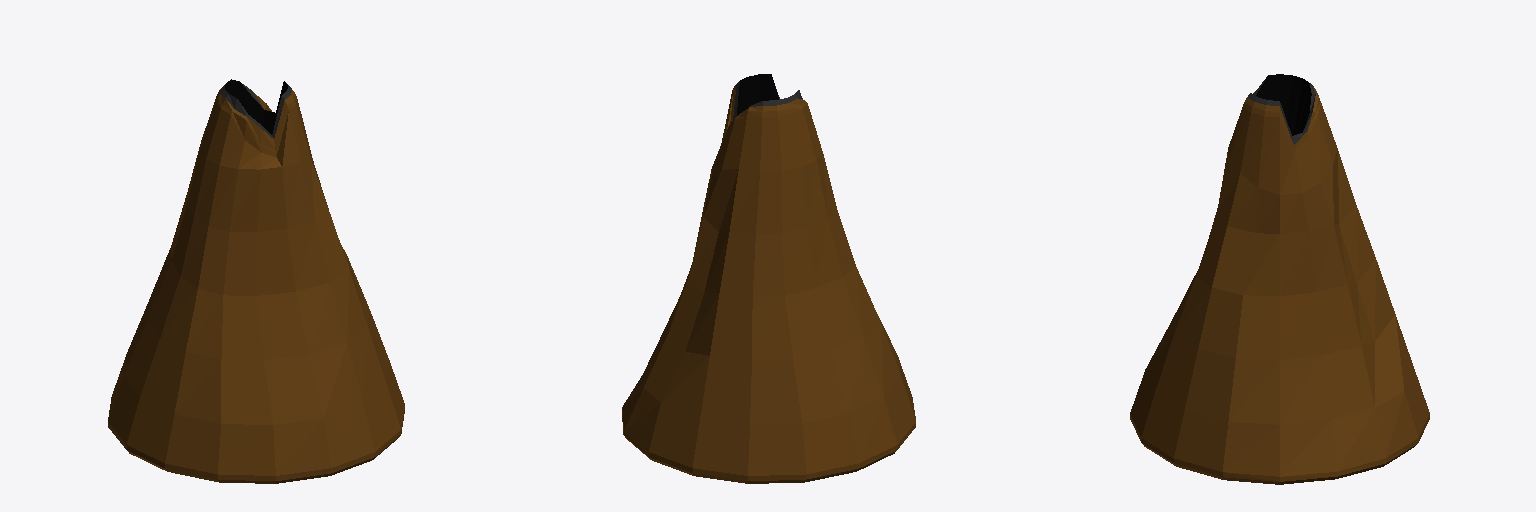
Rendered from volcanoGEO.obj.
3 views of the same model, side by side, from view 1: azimuth 30°, elevation 25°; view 2: azimuth 150°, elevation 25°; view 3: azimuth 270°, elevation 25° (orthographic).
Visible parts, largest first — view 1: volcano; view 2: volcano; view 3: volcano.
Part boxes in pixels (x1,y1,x2,y2): volcano: (108, 79, 404, 483); volcano: (622, 74, 915, 483); volcano: (1130, 74, 1429, 484).
Bounding box in the file's own units: 11.27 × 14.02 × 11.31.